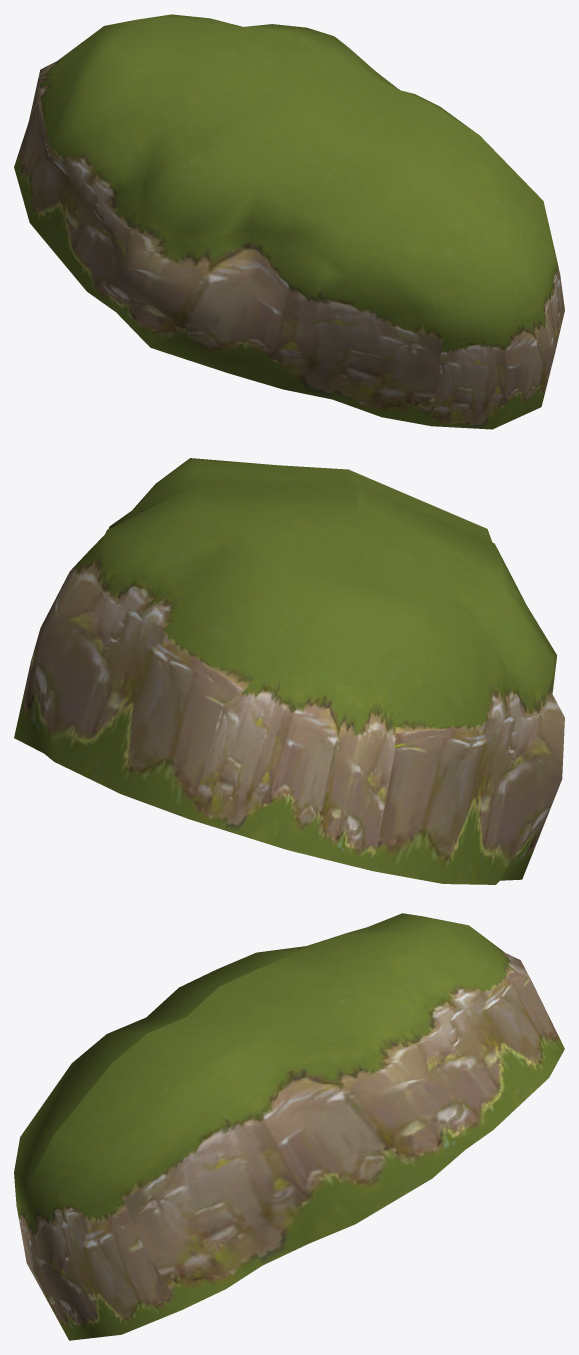
Rendered from gaoyuan_bianyuan_04 (1).fbx.
3 views of the same model, one above another, from view 1: azimuth 30°, elevation 25°; view 2: azimuth 150°, elevation 25°; view 3: azimuth 270°, elevation 25° (orthographic). The views are drawn at different scales.
Visible parts, largest first — view 1: gaoyuan_bianyuan_04 (1); view 2: gaoyuan_bianyuan_04 (1); view 3: gaoyuan_bianyuan_04 (1).
Boxes of the visible parts, x1,y1,x2,y2 form: gaoyuan_bianyuan_04 (1): [14, 14, 564, 429]; gaoyuan_bianyuan_04 (1): [14, 458, 564, 884]; gaoyuan_bianyuan_04 (1): [14, 913, 564, 1340].
Size of the model in its own units: 8.36 by 6.87 by 10.8.
